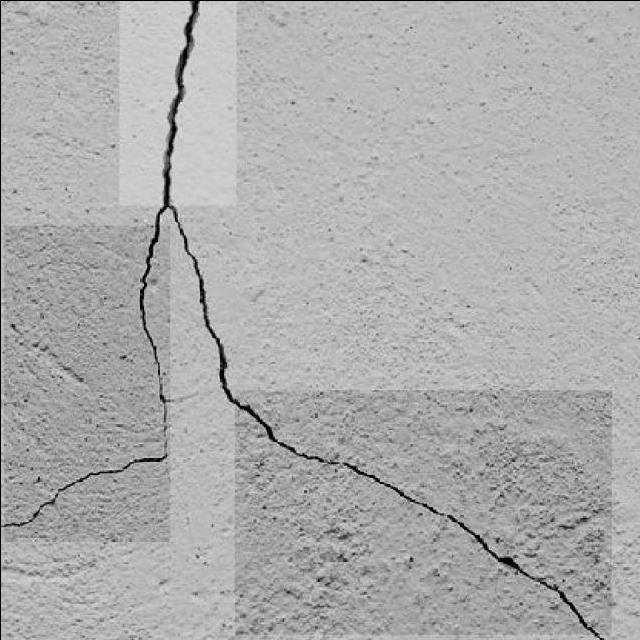SurfaceCrack: (232, 378, 612, 640), (0, 220, 180, 542), (128, 0, 234, 404)
